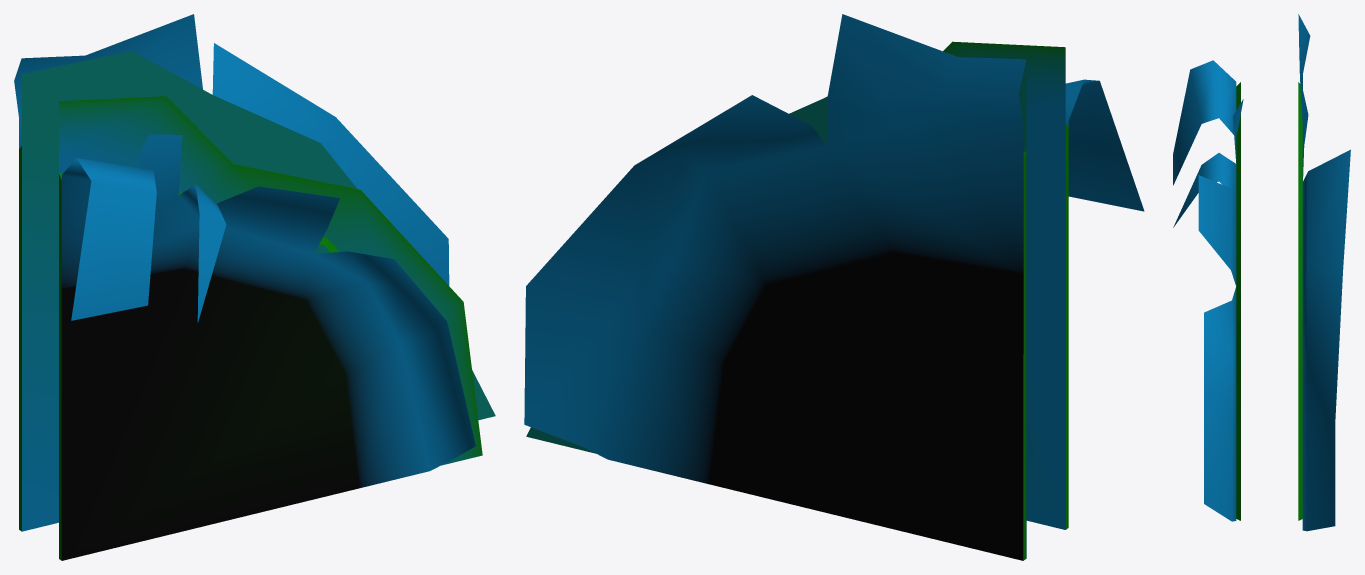
The model's file is DBK_Drywall_End_A.fbx.
3 renders of one model, left to right at view 1: azimuth 30°, elevation 25°; view 2: azimuth 150°, elevation 25°; view 3: azimuth 270°, elevation 25°, orthographic. The views are drawn at different scales.
Visible parts, largest first — view 1: DBK_Drywall_End_A; view 2: DBK_Drywall_End_A; view 3: DBK_Drywall_End_A.
Part boxes in pixels (x1=…): DBK_Drywall_End_A: x1=14, y1=14, x2=495, y2=560; DBK_Drywall_End_A: x1=524, y1=14, x2=1144, y2=560; DBK_Drywall_End_A: x1=1173, y1=14, x2=1350, y2=531.
Size of what is drawn, in the model's own units: 190 by 170 by 74.49.
